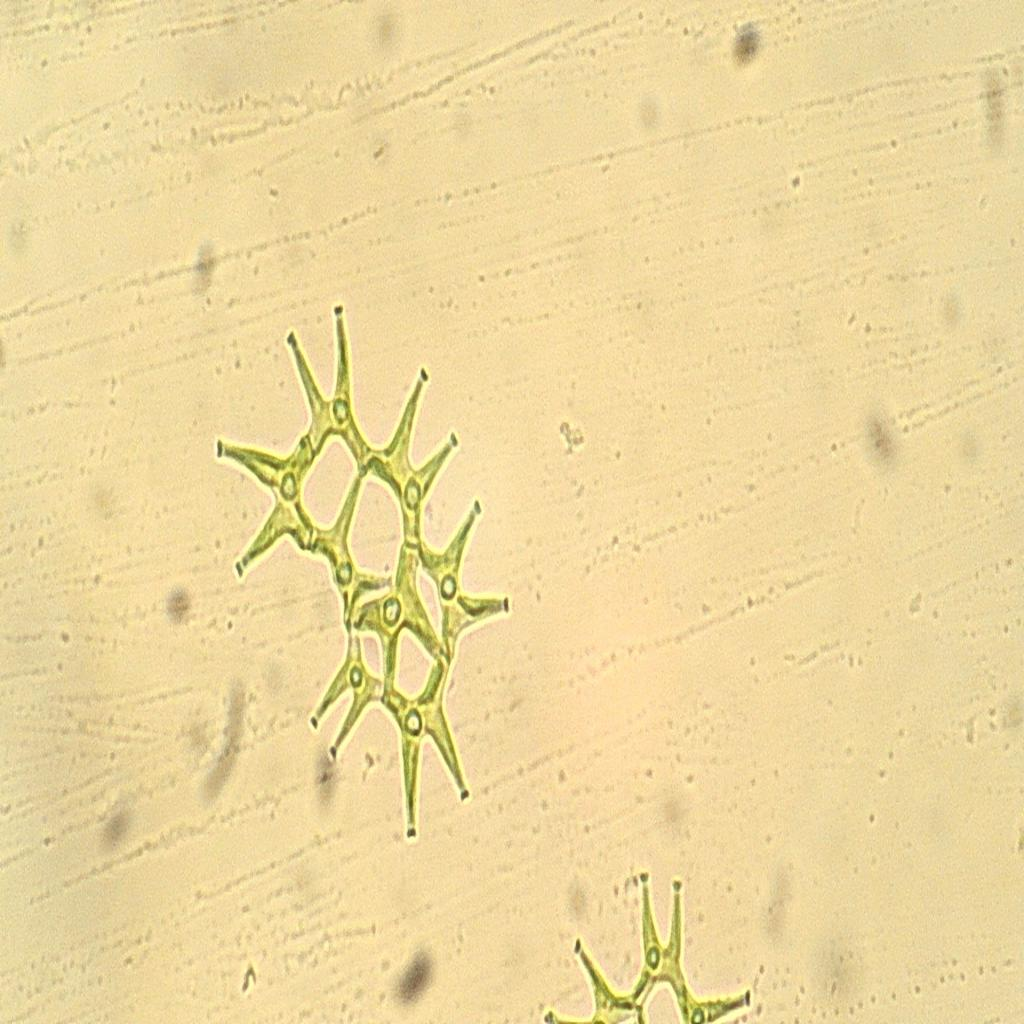Pediastrum_CFI: (207, 279, 518, 849)
